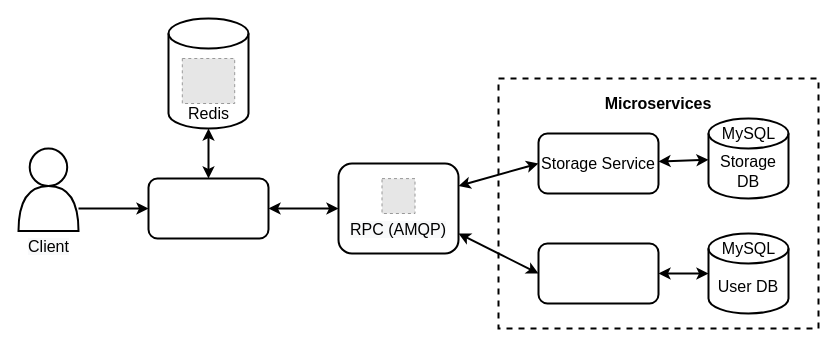
The diagram is 836 pixels wide and 346 high, and some of its shapes have lost their labels. Grey dashed boxes stand in for pictures. The centre of each missing label's shape, as x and y in pixels:
"API Gateway" belongs at point 208,208.
"User Service" belongs at point 598,273.
